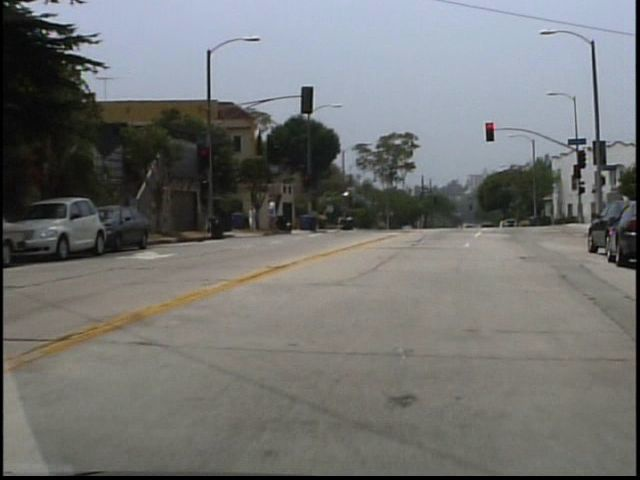person: (269, 198, 283, 237), (253, 203, 263, 234)
